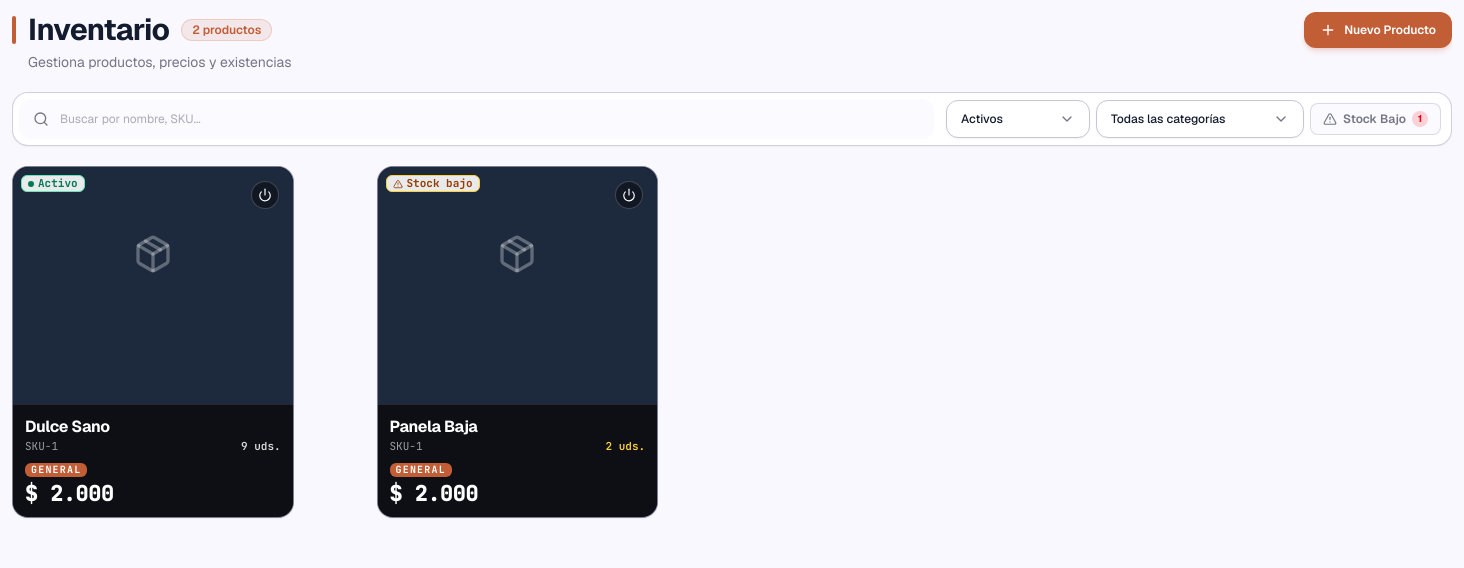
Inventory page — characterization (current behavior) › low-stock toggle shows only the products the server flagged (client-side)
This screenshot has width=1464, height=568.
Click the button "Stock Bajo 1".
click(1376, 119)  # box [1310,103,1441,135]
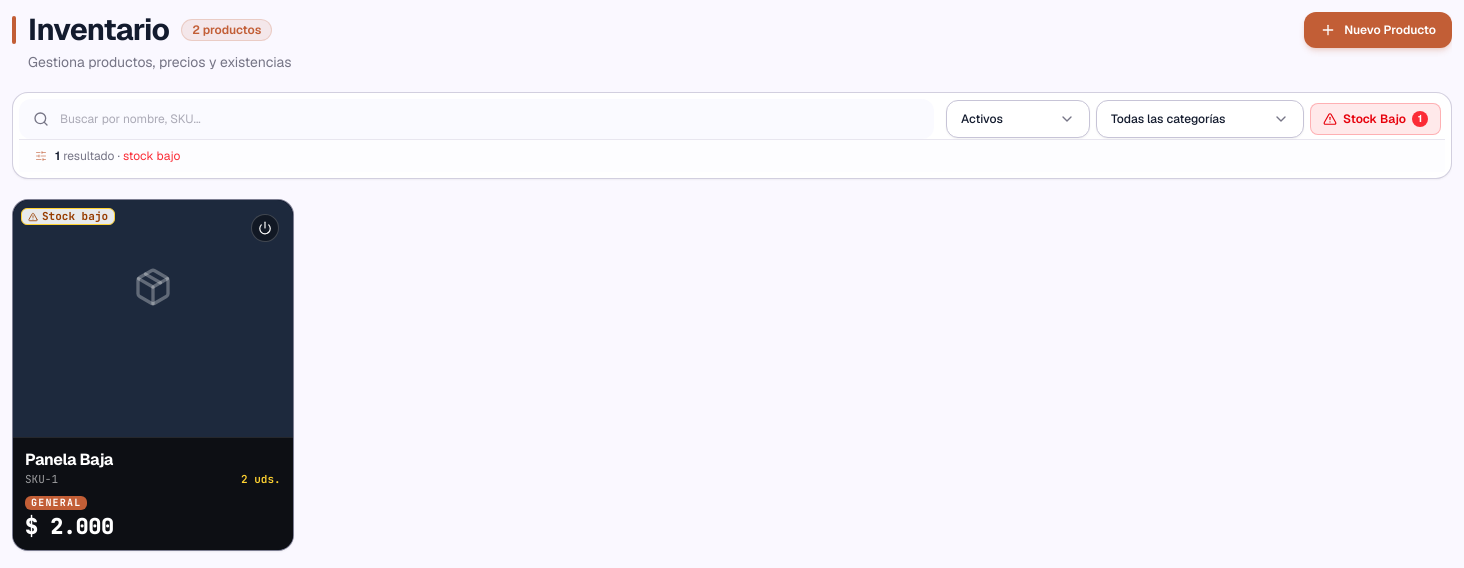
Expected: the heading "Panela Baja" is shown, [25,449,113,470]
Now the heading "Dulce Sano" is gone
Now the text "stock bajo" is shown, box [123,148,180,164]
